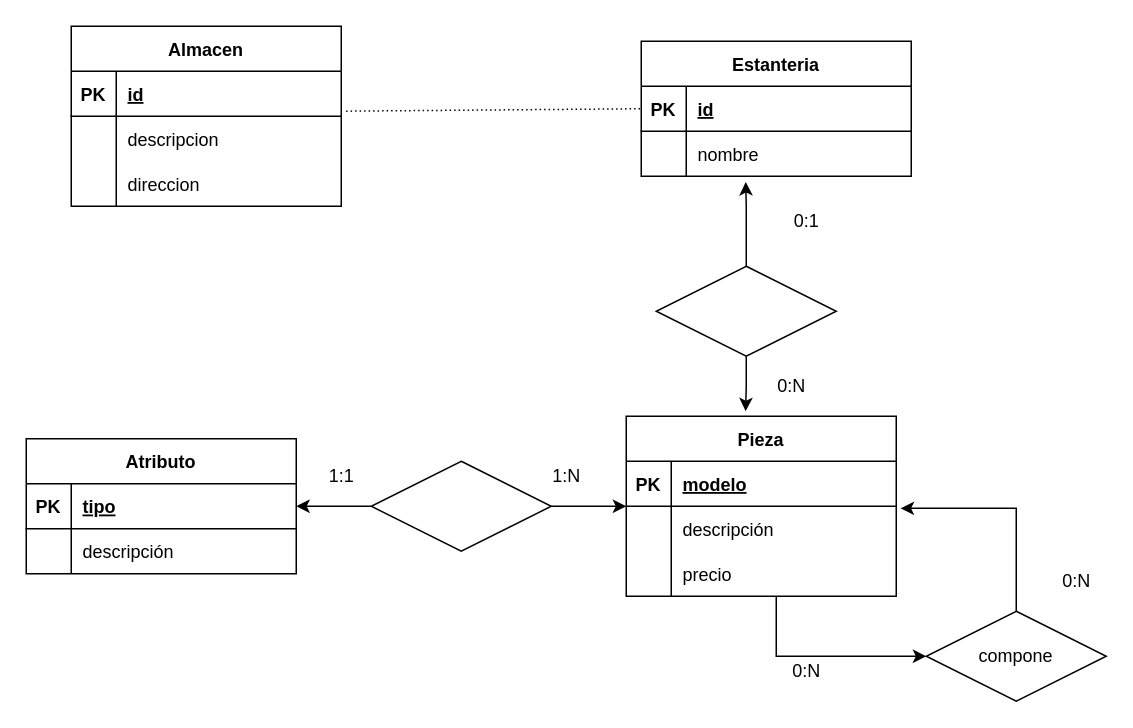
This 1133x728 diagram has some shape labels left out. The centre of each missing label's shape, as x and y in pixels:
almacena: (745,310)
forma: (460,505)
